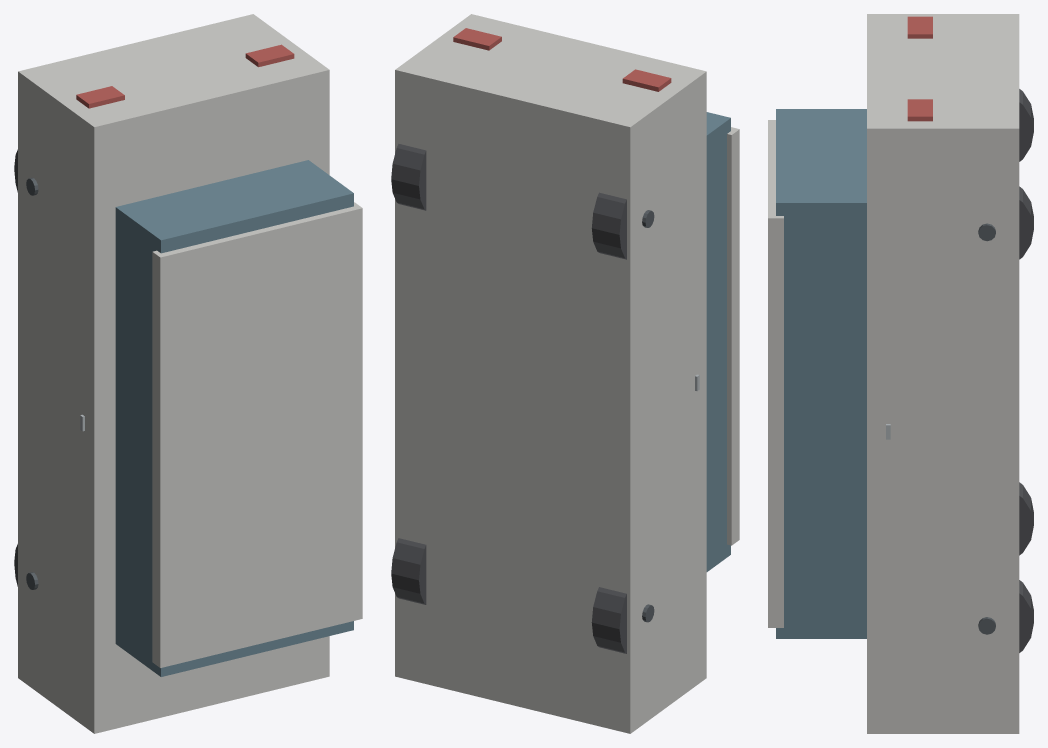
File: panel_minivan.glb
3 views of the same model, side by side, from view 1: azimuth 30°, elevation 25°; view 2: azimuth 150°, elevation 25°; view 3: azimuth 270°, elevation 25° (orthographic).
Parts seen in each view (by area): view 1: 0000_Car_body, 0003_Roof, 0002_Cabin_glass, 0009_Tail_lamp, 0007_Tail_lamp; view 2: 0000_Car_body, 0002_Cabin_glass, 0003_Roof, 0021_Wheel_tire, 0015_Wheel_tire, 0012_Wheel_tire, 0018_Wheel_tire, 0007_Tail_lamp, 0009_Tail_lamp; view 3: 0000_Car_body, 0002_Cabin_glass, 0003_Roof, 0021_Wheel_tire, 0012_Wheel_tire, 0015_Wheel_tire, 0018_Wheel_tire, 0007_Tail_lamp, 0009_Tail_lamp.
Part boxes in pixels (bbox=[...]): 0000_Car_body: bbox=[18, 14, 329, 733]; 0003_Roof: bbox=[152, 202, 362, 667]; 0002_Cabin_glass: bbox=[115, 160, 353, 676]; 0009_Tail_lamp: bbox=[245, 44, 294, 67]; 0007_Tail_lamp: bbox=[76, 86, 124, 108]; 0000_Car_body: bbox=[395, 14, 706, 733]; 0002_Cabin_glass: bbox=[706, 112, 730, 571]; 0003_Roof: bbox=[727, 127, 739, 545]; 0021_Wheel_tire: bbox=[391, 143, 426, 210]; 0015_Wheel_tire: bbox=[391, 538, 426, 604]; 0012_Wheel_tire: bbox=[591, 587, 626, 653]; 0018_Wheel_tire: bbox=[591, 192, 626, 259]; 0007_Tail_lamp: bbox=[622, 69, 671, 91]; 0009_Tail_lamp: bbox=[453, 28, 501, 50]; 0000_Car_body: bbox=[867, 14, 1019, 733]; 0002_Cabin_glass: bbox=[776, 109, 866, 638]; 0003_Roof: bbox=[768, 120, 783, 627]; 0021_Wheel_tire: bbox=[1019, 186, 1033, 259]; 0012_Wheel_tire: bbox=[1019, 482, 1033, 555]; 0015_Wheel_tire: bbox=[1019, 580, 1033, 652]; 0018_Wheel_tire: bbox=[1019, 89, 1033, 161]; 0007_Tail_lamp: bbox=[907, 16, 932, 38]; 0009_Tail_lamp: bbox=[907, 99, 932, 121].
Size of the model in its own units: 2.09 by 5.1 by 1.99.
